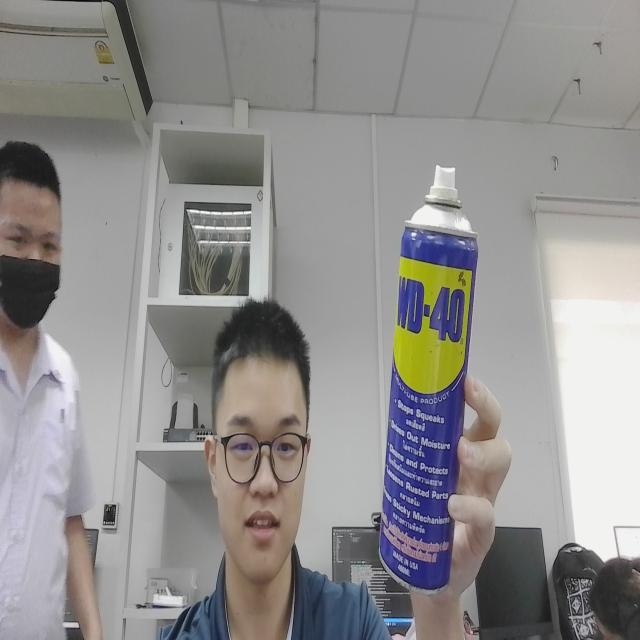wd-40: (375, 146, 482, 598)
